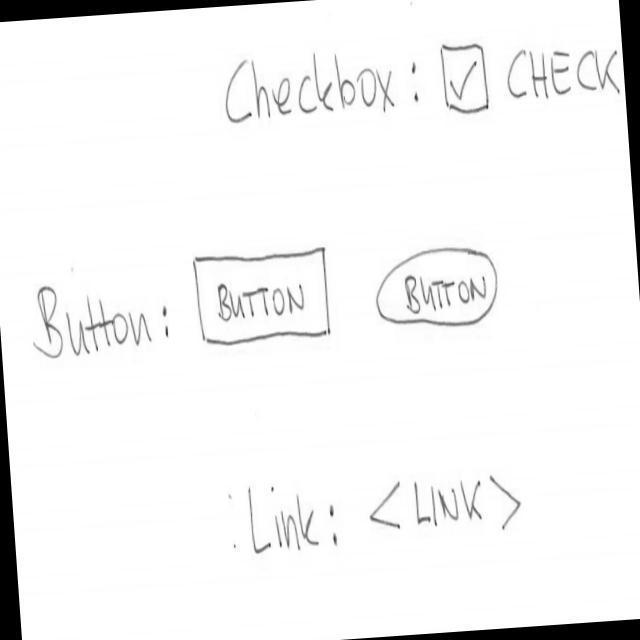button: (190, 242, 336, 355), (372, 236, 504, 339)
checkbox: (438, 28, 626, 123)
link: (365, 466, 526, 547)
